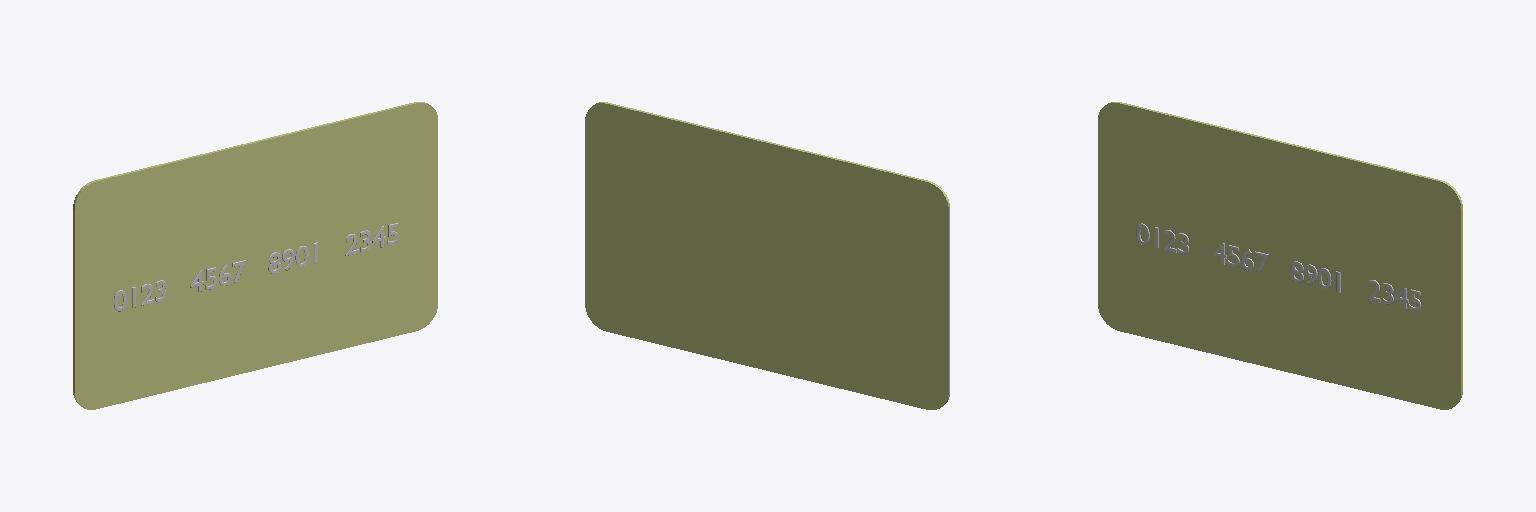
The model's file is Card_triangle.obj.
3 renders of one model, left to right at view 1: azimuth 30°, elevation 25°; view 2: azimuth 150°, elevation 25°; view 3: azimuth 330°, elevation 25°, orthographic.
Parts seen in each view (by area): view 1: Plane_Plane.002, Text_Text.002; view 2: Plane_Plane.002; view 3: Plane_Plane.002, Text_Text.002.
Part boxes in pixels (x1,y1,x2,y2): Plane_Plane.002: (73,102,437,409); Text_Text.002: (114,223,398,311); Plane_Plane.002: (585,102,949,409); Plane_Plane.002: (1098,102,1462,409); Text_Text.002: (1136,223,1421,310).
Bounding box in the file's own units: 0.1 × 0.0599 × 0.0011.